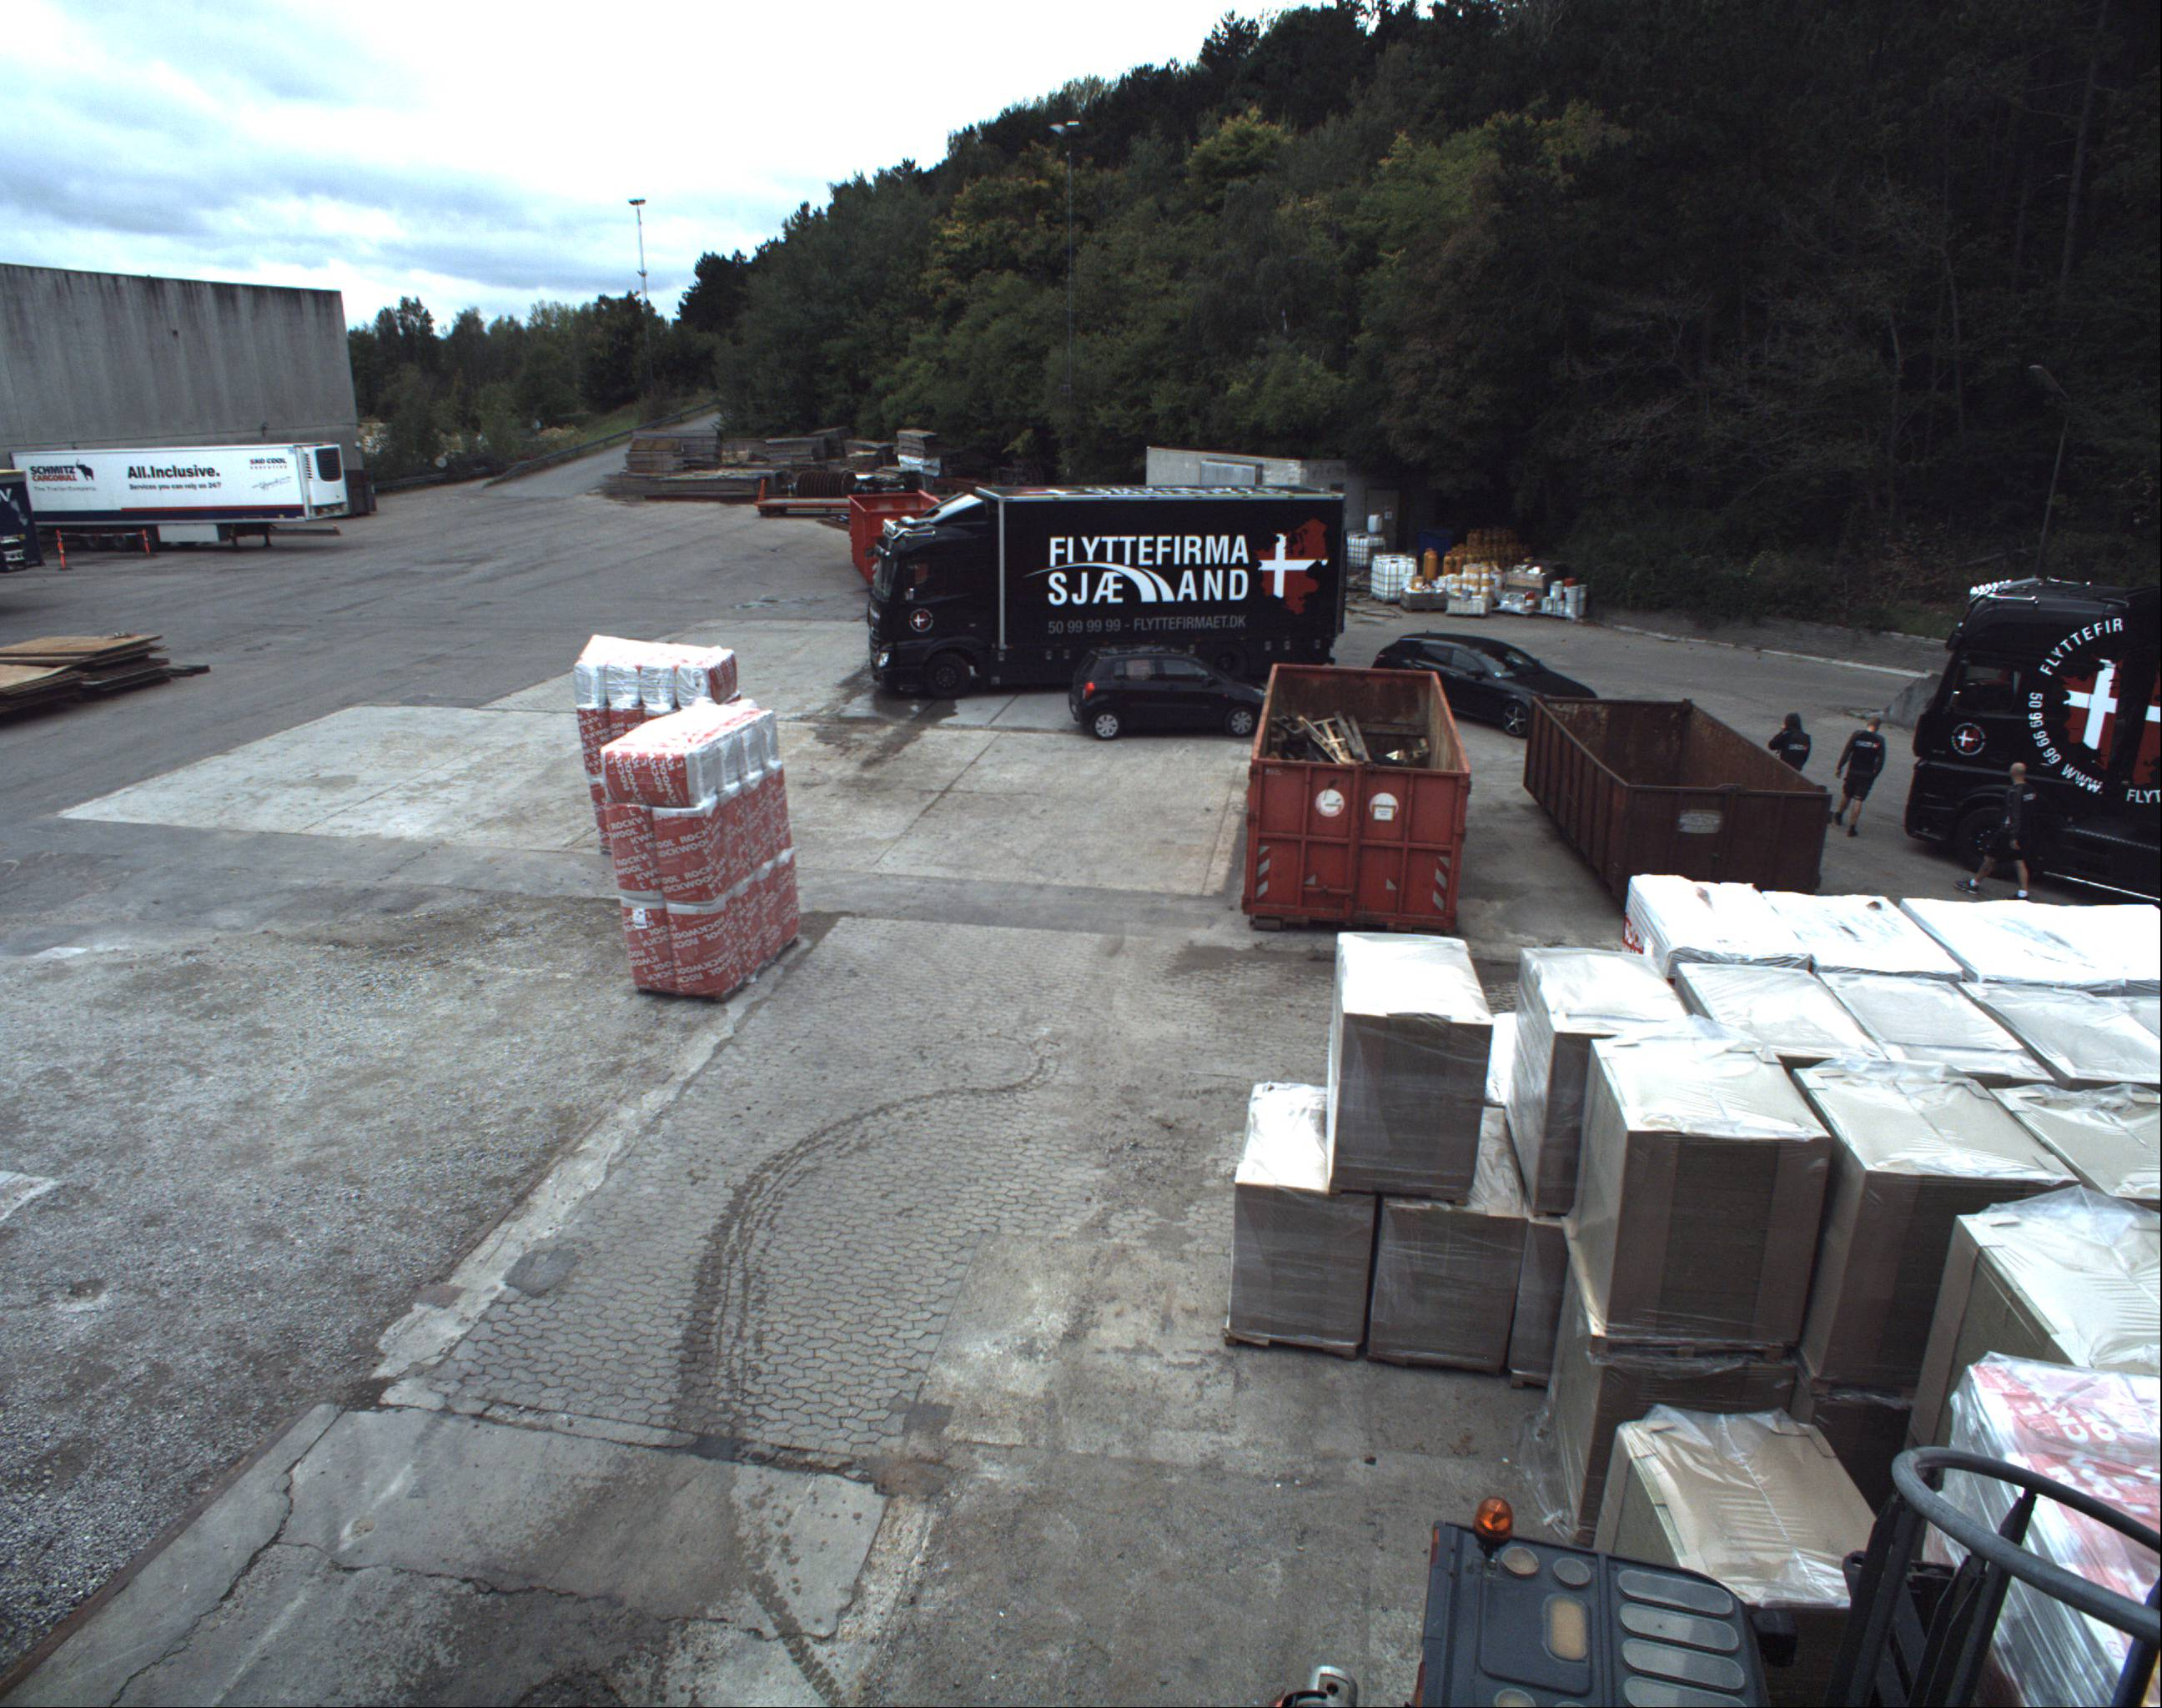rockwool_batts: (1951, 1352, 2153, 1664), (593, 702, 800, 997), (567, 620, 735, 827)
